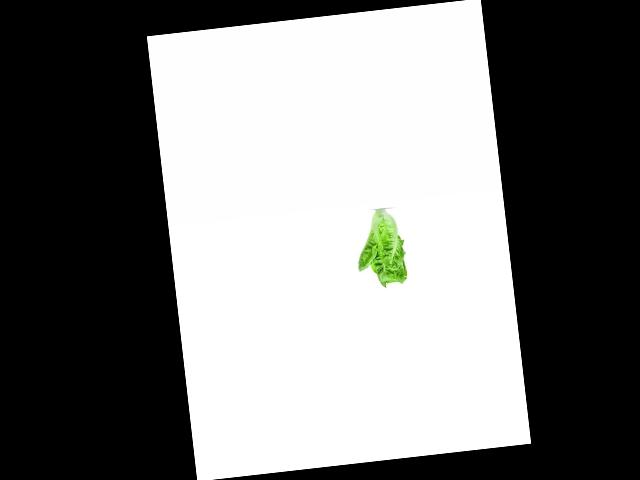lettuce: (352, 209, 412, 291)
